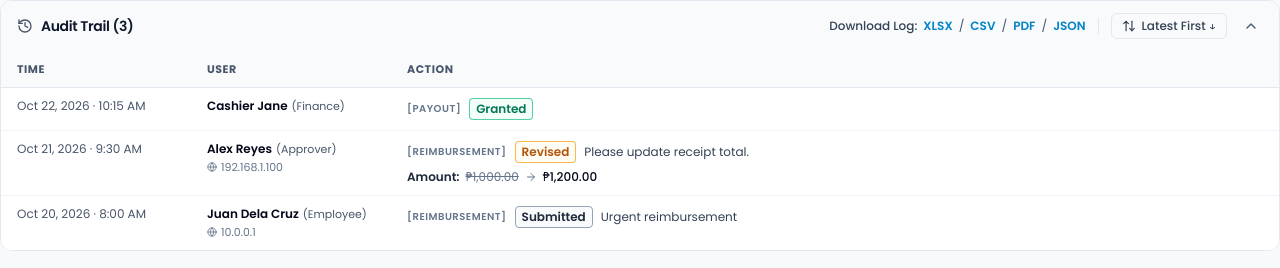
it: BaseAuditTrail › collapses and expands when clicking header toggle
What coordinates should you click on to do the following:
click the button with test id "audit-trail-collapse-btn"
I would click on:
 (1251, 26)
Its box is [1239,14,1263,38].
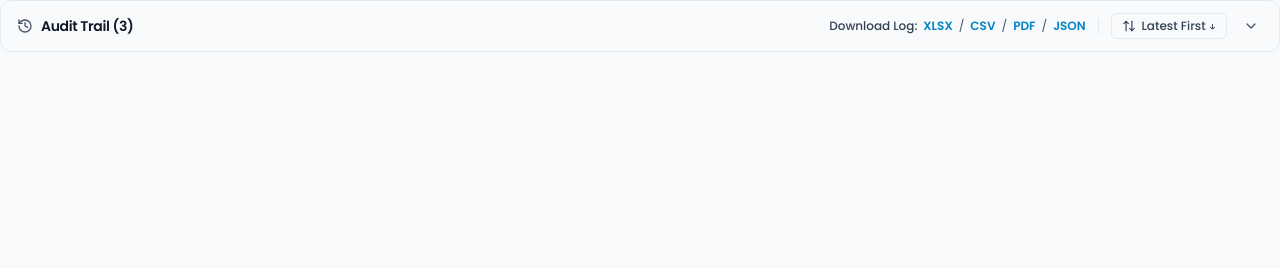
What coordinates should you click on to do the following:
click the button with test id "audit-trail-collapse-btn"
I would click on:
 (1251, 26)
Its box is [1239,14,1263,38].
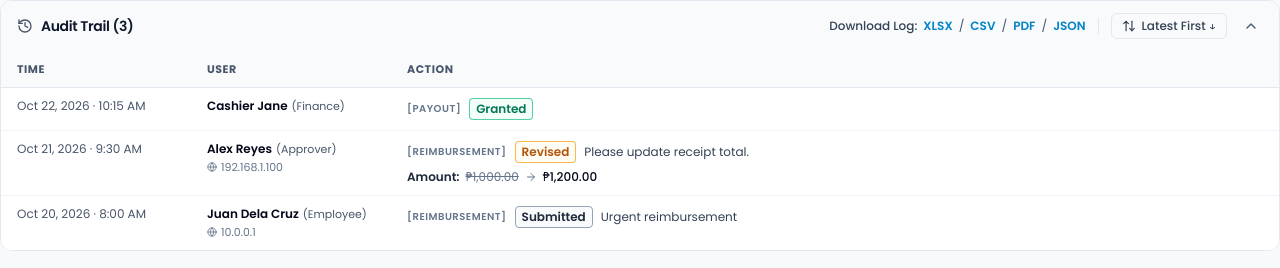
expect the element with test id "audit-trail-body" is shown: met
